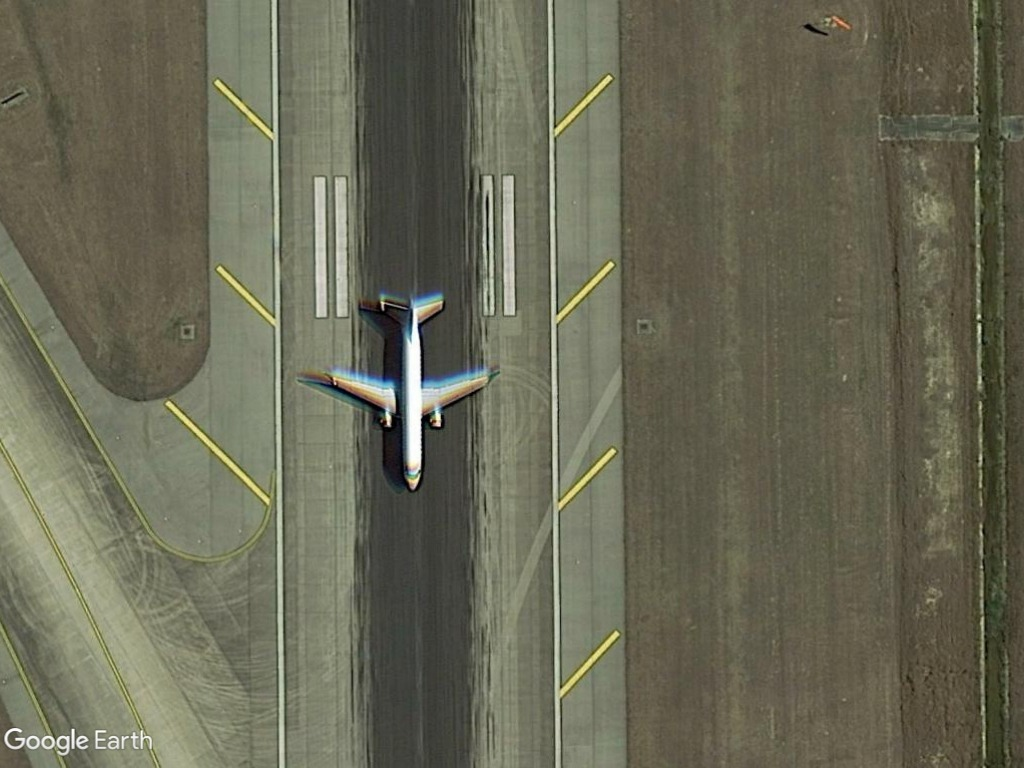airliner: (318, 283, 506, 501)
